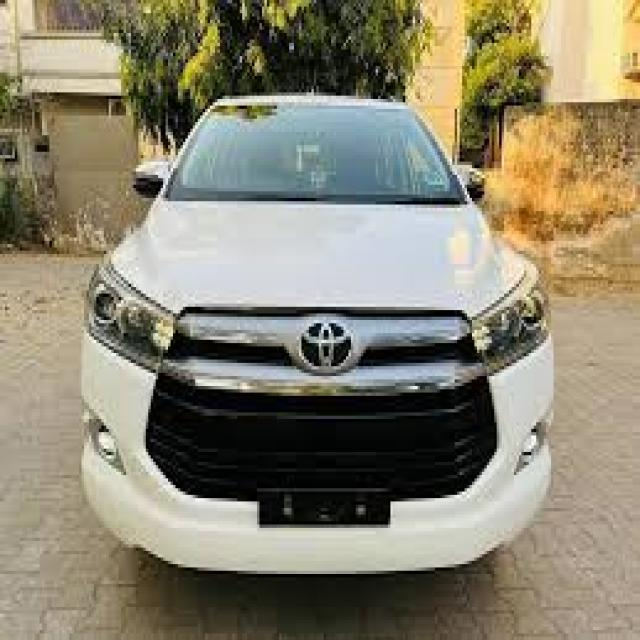light_vehicle: (82, 95, 554, 575)
